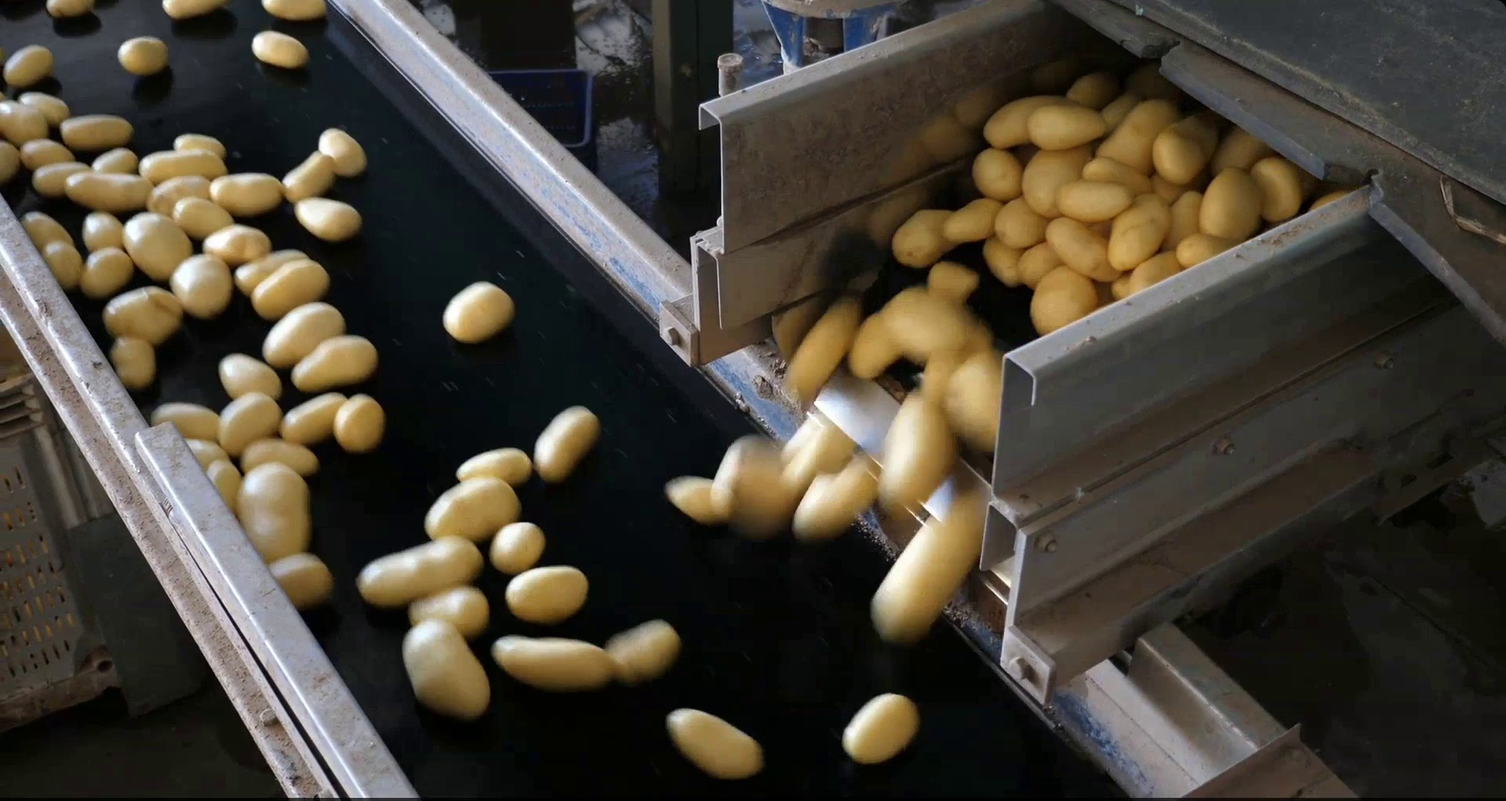potato: (868, 485, 994, 649), (875, 380, 964, 524), (351, 531, 489, 611), (776, 292, 868, 411), (395, 616, 495, 725), (778, 406, 857, 541), (787, 446, 882, 546), (229, 458, 315, 564), (660, 705, 769, 783), (941, 345, 1014, 460), (489, 632, 619, 693), (417, 472, 525, 545), (916, 317, 1000, 407), (834, 689, 927, 770), (529, 397, 607, 489), (708, 432, 779, 530), (977, 91, 1094, 150), (877, 285, 959, 368), (1096, 96, 1181, 175), (260, 298, 350, 372), (1018, 144, 1102, 223), (598, 613, 686, 687), (288, 330, 386, 396), (1023, 262, 1101, 343), (1149, 109, 1227, 189), (435, 276, 520, 348), (1103, 190, 1175, 274), (118, 210, 197, 284), (1042, 214, 1125, 284), (503, 563, 593, 627), (247, 256, 335, 321), (1196, 165, 1265, 246), (888, 202, 968, 271), (846, 303, 912, 383), (100, 285, 185, 346), (404, 581, 493, 638), (216, 389, 287, 459), (169, 250, 237, 322), (1020, 100, 1110, 153), (273, 390, 353, 449), (232, 245, 320, 298), (264, 550, 339, 611), (61, 169, 158, 215), (1051, 177, 1140, 225), (446, 444, 535, 491), (233, 433, 320, 481), (937, 193, 1011, 248), (133, 147, 232, 188), (486, 518, 551, 580), (206, 169, 286, 219), (216, 350, 285, 407), (147, 399, 224, 450), (1205, 123, 1275, 178), (289, 194, 364, 245), (1250, 154, 1304, 224), (969, 144, 1028, 206), (198, 221, 275, 267), (990, 194, 1050, 253), (278, 148, 336, 209), (331, 392, 387, 455), (74, 243, 136, 299), (143, 171, 214, 219), (1158, 187, 1206, 257), (663, 473, 728, 524), (14, 206, 77, 258), (169, 194, 238, 241), (108, 331, 161, 392), (1079, 153, 1157, 194), (57, 111, 138, 150), (316, 123, 371, 180), (1172, 230, 1247, 270), (246, 25, 311, 71), (202, 455, 246, 520), (2, 40, 57, 92), (1126, 248, 1184, 297), (115, 32, 176, 78), (1, 94, 51, 150), (922, 257, 984, 302), (30, 158, 93, 200), (979, 232, 1021, 294), (37, 238, 86, 291), (80, 205, 130, 256), (1014, 239, 1062, 292), (14, 135, 78, 173), (15, 89, 73, 127), (1064, 71, 1117, 108), (185, 434, 234, 474), (170, 129, 227, 163), (1097, 89, 1143, 130), (154, 1, 234, 24), (1306, 180, 1351, 219), (259, 1, 333, 24), (89, 144, 140, 176), (1145, 169, 1183, 208), (40, 1, 104, 21), (2, 136, 23, 194), (1102, 273, 1132, 299)
